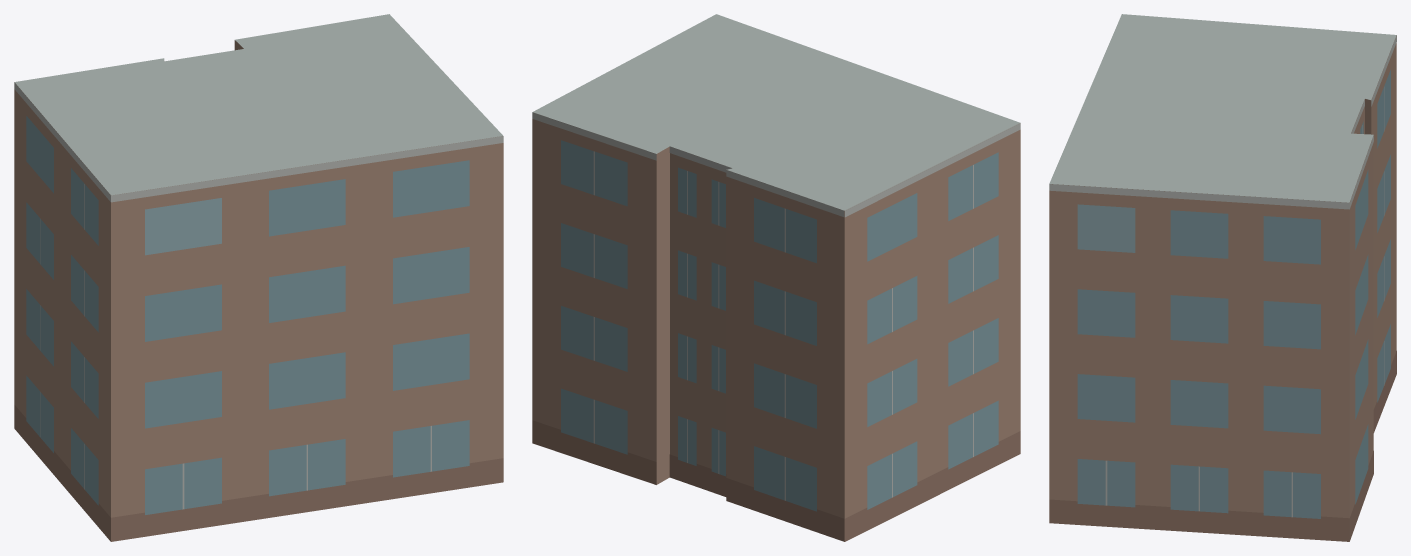
File: survey-upis-32941371.glb
3 views of the same model, side by side, from view 1: azimuth 30°, elevation 25°; view 2: azimuth 150°, elevation 25°; view 3: azimuth 270°, elevation 25° (orthographic). The views are drawn at different scales.
Parts seen in each view (by area): view 1: survey-upis-32941371.tmp; view 2: survey-upis-32941371.tmp; view 3: survey-upis-32941371.tmp.
Part boxes in pixels (x1,y1,x2,y2): survey-upis-32941371.tmp: [14, 14, 503, 541]; survey-upis-32941371.tmp: [532, 14, 1020, 541]; survey-upis-32941371.tmp: [1049, 14, 1396, 541].
Size of the model in its own units: 14.38 by 12.05 by 11.2.
